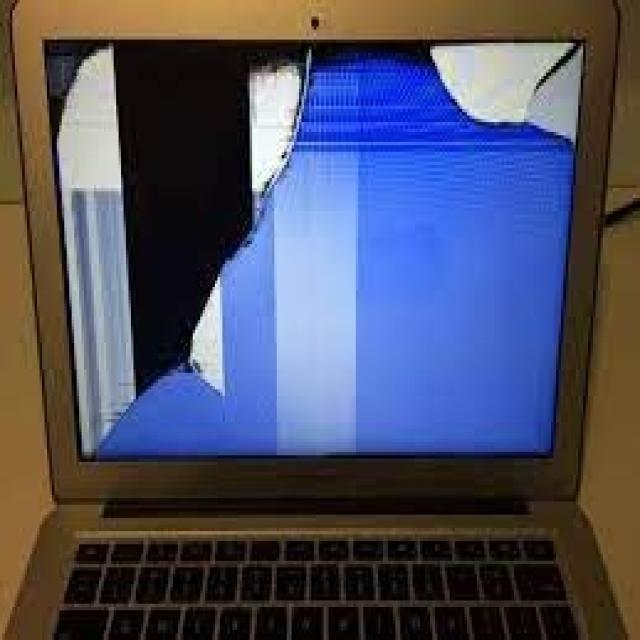Screen cracks: (40, 36, 326, 472), (418, 40, 590, 156)
